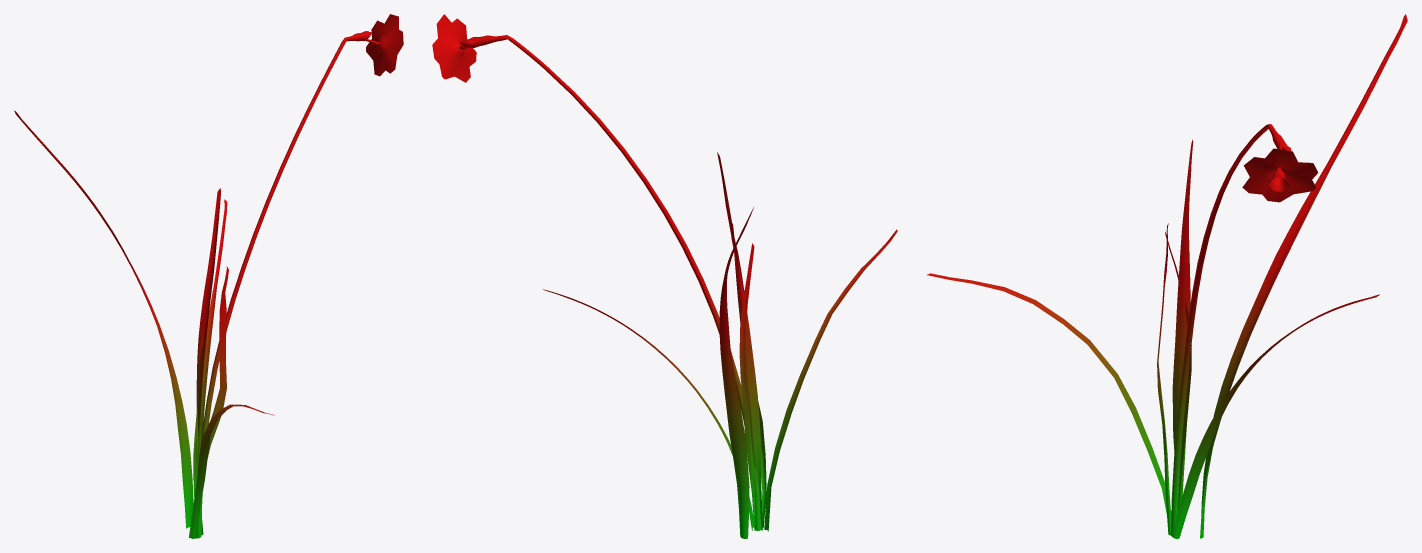
Rendered from Rush Daffodil_LOD0_Var15_wftgfjaia.fbx.
3 views of the same model, side by side, from view 1: azimuth 30°, elevation 25°; view 2: azimuth 150°, elevation 25°; view 3: azimuth 270°, elevation 25° (orthographic). The views are drawn at different scales.
Visible parts, largest first — view 1: _lx9m_var15_LOD0; view 2: _lx9m_var15_LOD0; view 3: _lx9m_var15_LOD0.
Boxes of the visible parts, x1=… form: _lx9m_var15_LOD0: x1=14, y1=14, x2=403, y2=538; _lx9m_var15_LOD0: x1=432, y1=14, x2=897, y2=538; _lx9m_var15_LOD0: x1=927, y1=14, x2=1407, y2=538.
Size of the model in its own units: 23.42 by 29.25 by 23.97.
